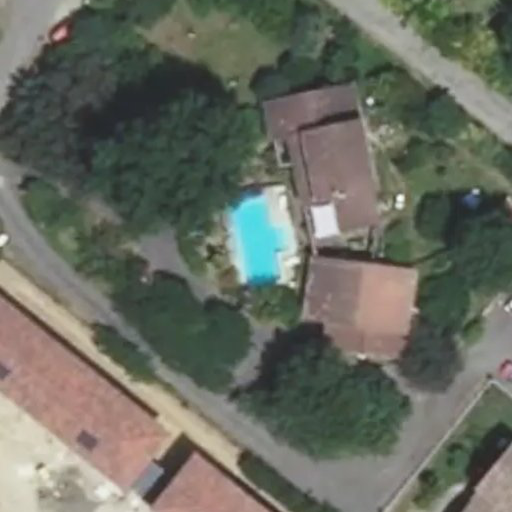pool: (231, 203, 280, 280)
